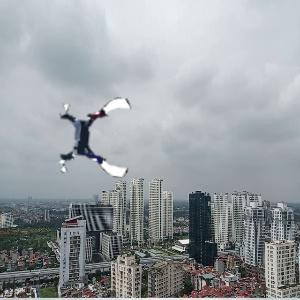drone: (55, 95, 139, 179)
